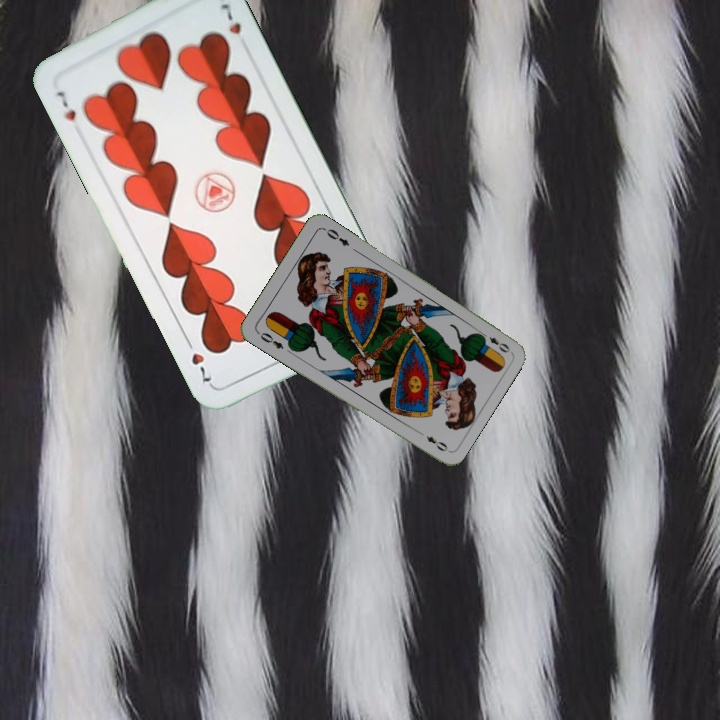EO: (476, 328, 513, 356), (253, 328, 286, 352)
H7: (52, 86, 79, 124)
